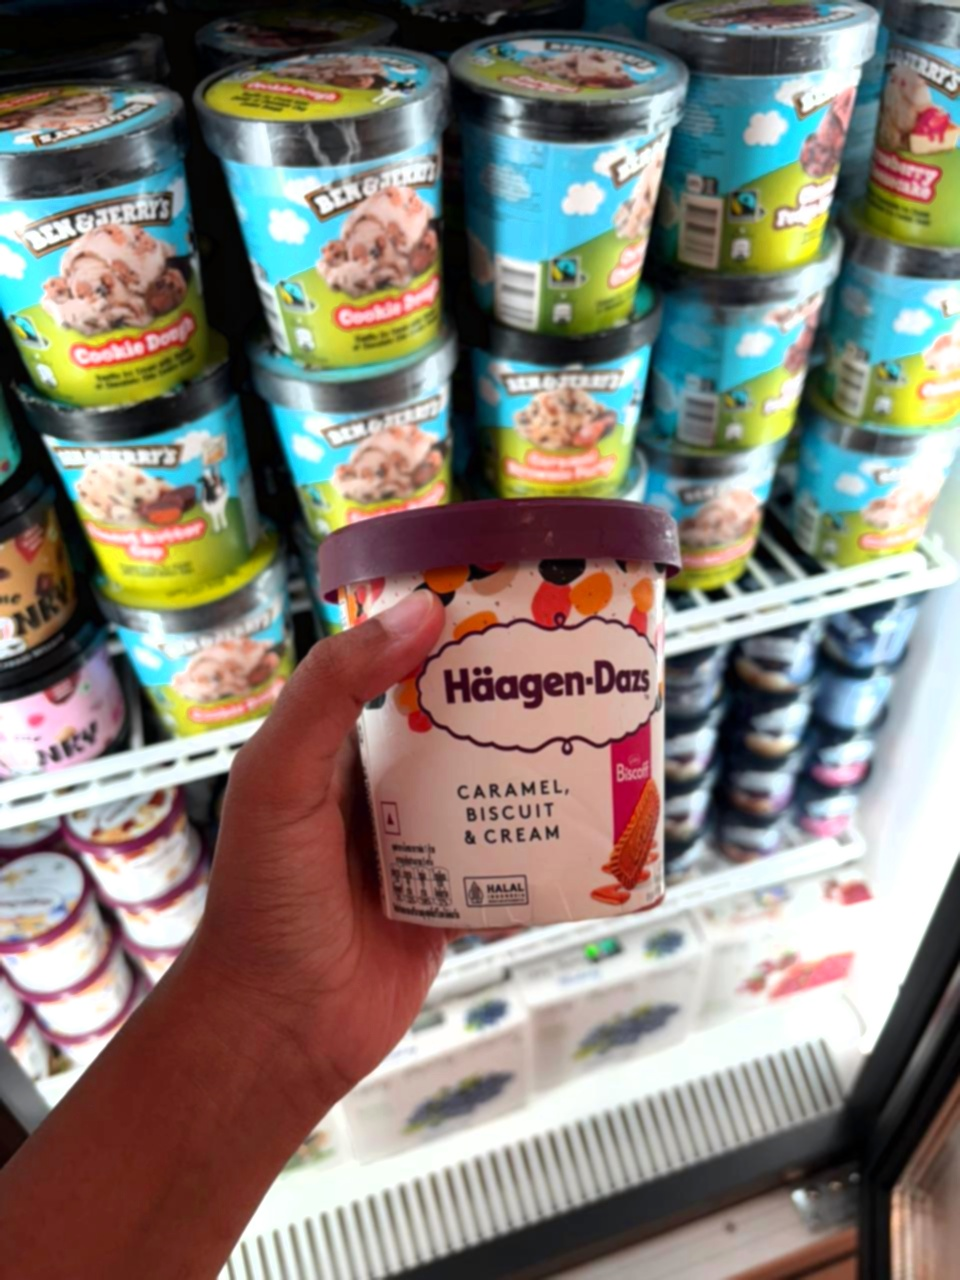Haagen-Dazs IceCream Tub: (298, 489, 722, 950)
